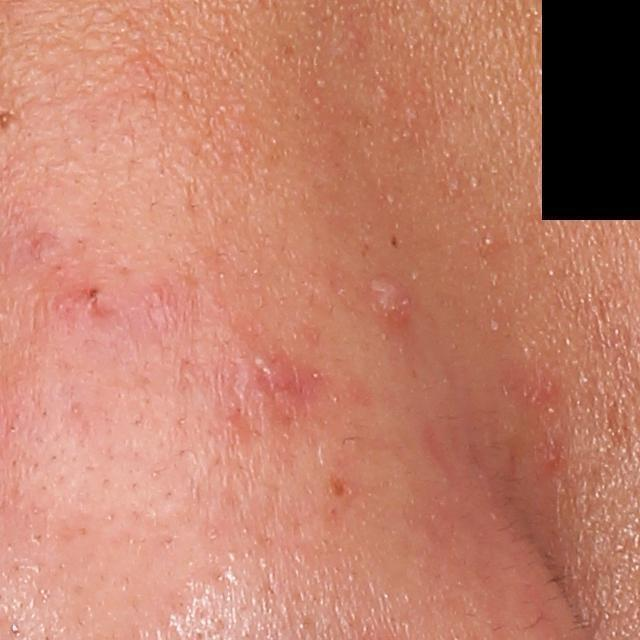nevus: (388, 235, 399, 250)
papule: (230, 350, 306, 416), (364, 267, 417, 330), (48, 285, 101, 325)
